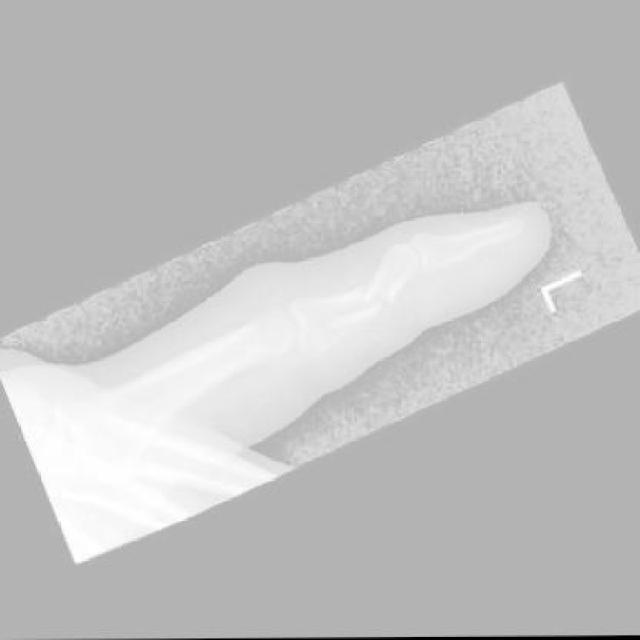Fracture: (313, 269, 399, 341)
